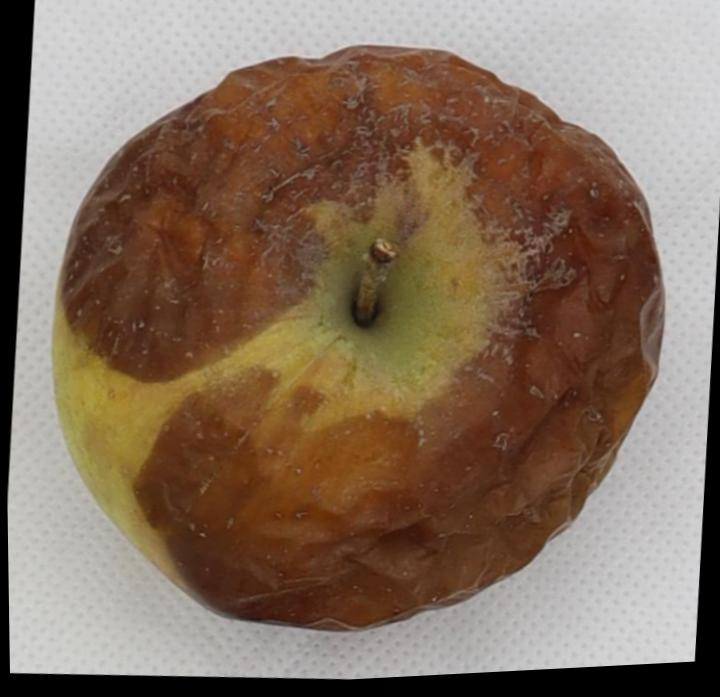apple: (54, 46, 662, 627)
rot_mold_decay: (63, 46, 660, 623)
